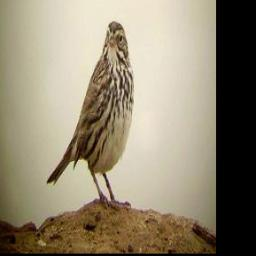Sparrow: (45, 19, 135, 212)
